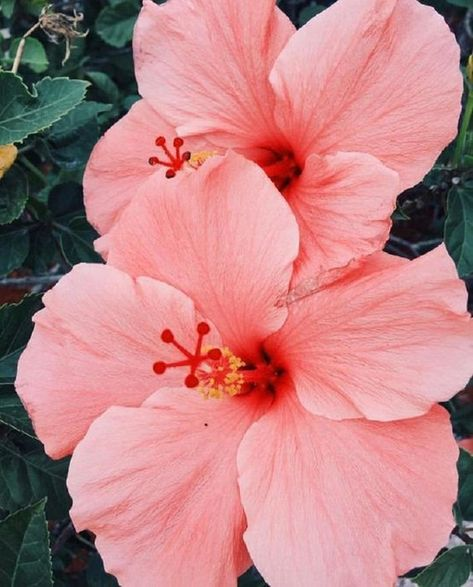Hibiscus: (1, 161, 473, 587), (69, 1, 467, 254)
